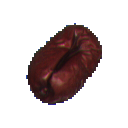ng: (20, 20, 109, 112)
